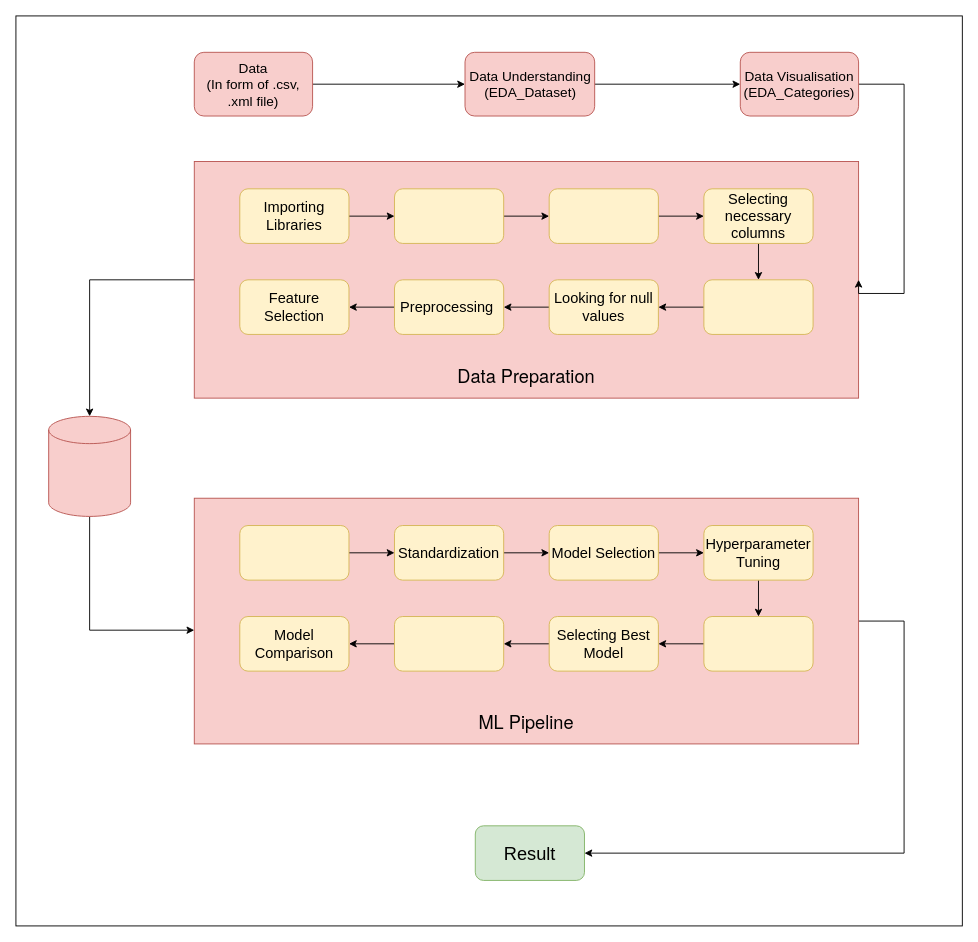
Image size: 978x942. Some labels were removed from this diagram. Each missing label, with the centre of its shape:
Data Description: point 603,215
Data Standardization: point 758,306
Dataset Splitting: point 294,552
Evaluation on Test Data: point 449,643
Loading Dataset: point 449,215
Model Evaluation: point 758,643
Preprocessed Data: point 89,465
